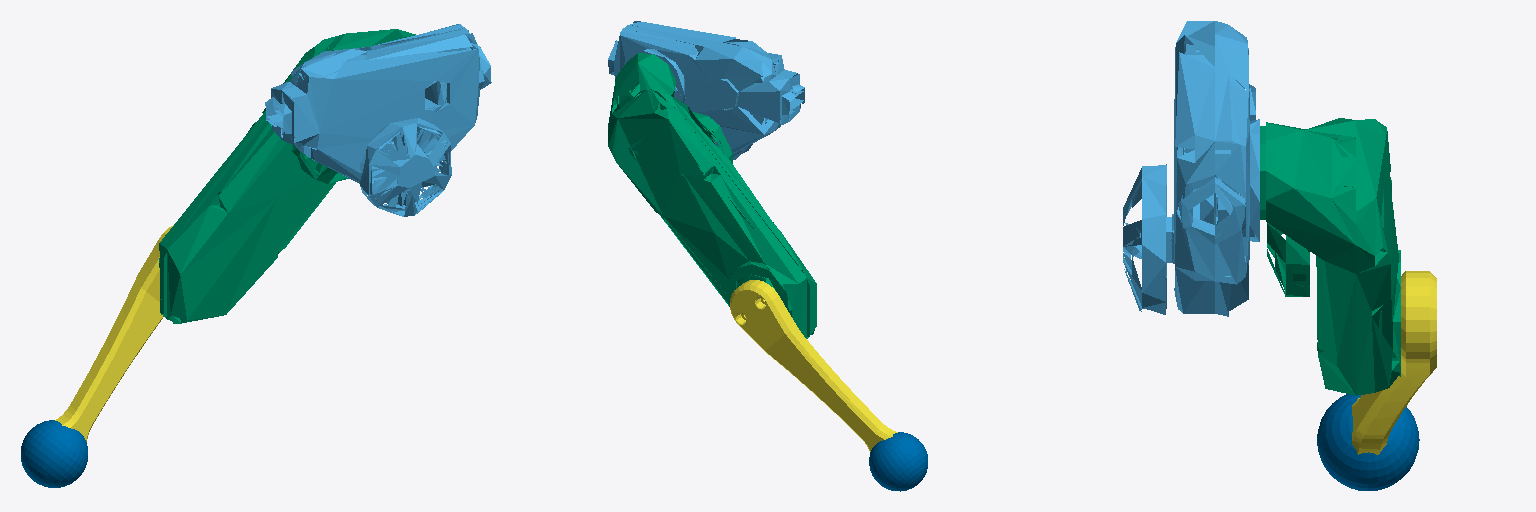
robot.urdf — ester:
<?xml version="1.0" ?>
<!-- =================================================================================== -->
<!-- |    This document was autogenerated by xacro from front_left_leg.urdf.xacro      | -->
<!-- |    EDITING THIS FILE BY HAND IS NOT RECOMMENDED                                 | -->
<!-- =================================================================================== -->
<robot name="ester">
  <!-- Dummy shoulder joint -->
  <link name="front_left_hip_aa_link"/>
  <link name="front_left_hip_fe_link">
    <inertial>
      <mass value="0.139328"/>
      <origin rpy="0 0 3.141592653589793" xyz="0.01808 0.004477 -0.014405"/>
      <inertia ixx="6.080E-05" ixy="-3.521E-06" ixz="2.540E-06" iyy="1.052E-04" iyz="1.247E-05" izz="7.157E-05"/>
    </inertial>
    <visual>
      <origin rpy="0 0 3.141592653589793" xyz="0 0 -0.003"/>
      <geometry>
        <mesh filename="package://ester_description/meshes/leg/front_hip_fe.stl" scale="0.001 0.001 0.001"/>
      </geometry>
    </visual>
    <collision>
      <origin rpy="0 0 3.141592653589793" xyz="0 0 -0.003"/>
      <geometry>
        <mesh filename="package://ester_description/meshes/leg/front_hip_fe.stl" scale="0.001 0.001 0.001"/>
      </geometry>
    </collision>
  </link>
  <joint name="front_left_hip_fe_joint" type="revolute">
    <origin rpy="0 0 0" xyz="0.083972 0.0878 0"/>
    <axis xyz="1 0 0"/>
    <limit effort="2.43" lower="-0.17453292519943295" upper="0.7853981633974483" velocity="83.33333333333333"/>
    <dynamics damping="0.05" friction="0.1"/>
    <parent link="front_left_hip_aa_link"/>
    <child link="front_left_hip_fe_link"/>
  </joint>
  <transmission name="front_left_hip_fe_transmission">
    <type>transmission_interface/SimpleTransmission</type>
    <joint name="front_left_hip_fe_joint">
      <hardwareInterface>hardware_interface/EffortJointInterface</hardwareInterface>
    </joint>
    <actuator name="front_left_hip_fe_motor">
      <hardwareInterface>hardware_interface/EffortJointInterface</hardwareInterface>
      <mechanicalReduction>1</mechanicalReduction>
    </actuator>
  </transmission>
  <link name="front_left_upper_leg_link">
    <inertial>
      <mass value="0.158127"/>
      <origin rpy="0 0 1.5707963267948966" xyz="0.0 0.022563 -0.07012"/>
      <inertia ixx="2.824E-04" ixy="4.259E-09" ixz="-6.584E-08" iyy="2.882E-04" iyz="3.543E-05" izz="3.742E-05"/>
    </inertial>
    <visual>
      <origin rpy="0 0 1.5707963267948966" xyz="0 0 0"/>
      <geometry>
        <mesh filename="package://ester_description/meshes/leg/front_upper_leg.stl" scale="0.001 0.001 0.001"/>
      </geometry>
    </visual>
    <collision>
      <origin rpy="0 0 1.5707963267948966" xyz="0 0 0"/>
      <geometry>
        <mesh filename="package://ester_description/meshes/leg/front_upper_leg.stl" scale="0.001 0.001 0.001"/>
      </geometry>
    </collision>
  </link>
  <joint name="front_left_upper_leg_joint" type="revolute">
    <origin rpy="0 0.7853981633974483 0" xyz="0 0.01415 0"/>
    <axis xyz="0 1 0"/>
    <limit effort="4.32" lower="-2.356194490192345" upper="2.356194490192345" velocity="46.875"/>
    <dynamics damping="0.05" friction="0.1"/>
    <parent link="front_left_hip_fe_link"/>
    <child link="front_left_upper_leg_link"/>
  </joint>
  <transmission name="front_left_upper_leg_transmission">
    <type>transmission_interface/SimpleTransmission</type>
    <joint name="front_left_upper_leg_joint">
      <hardwareInterface>hardware_interface/EffortJointInterface</hardwareInterface>
    </joint>
    <actuator name="front_left_upper_leg_motor">
      <hardwareInterface>hardware_interface/EffortJointInterface</hardwareInterface>
      <mechanicalReduction>1</mechanicalReduction>
    </actuator>
  </transmission>
  <link name="front_left_lower_leg_link">
    <inertial>
      <mass value="0.023961"/>
      <origin xyz="0 0.00816 -0.044589"/>
      <inertia ixx="3.727E-05" ixy="-5.628E-16" ixz="2.285E-15" iyy="3.709E-05" iyz="-5.027E-06" izz="1.815E-06"/>
    </inertial>
    <visual>
      <origin rpy="0 0 0" xyz="0 0 0"/>
      <geometry>
        <mesh filename="package://ester_description/meshes/leg/front_lower_leg.stl" scale="0.001 0.001 0.001"/>
      </geometry>
    </visual>
    <collision>
      <origin rpy="0 0 0" xyz="0 0 0"/>
      <geometry>
        <mesh filename="package://ester_description/meshes/leg/front_lower_leg.stl" scale="0.001 0.001 0.001"/>
      </geometry>
    </collision>
  </link>
  <joint name="front_left_lower_leg_joint" type="revolute">
    <axis xyz="0 1 0"/>
    <limit effort="4.32" lower="-2.5132741228718345" upper="2.5132741228718345" velocity="46.875"/>
    <dynamics damping="0.05" friction="0.1"/>
    <origin rpy="0 0 0" xyz="0 0.0315 -0.1232"/>
    <parent link="front_left_upper_leg_link"/>
    <child link="front_left_lower_leg_link"/>
  </joint>
  <transmission name="front_left_lower_leg_transmission">
    <type>transmission_interface/SimpleTransmission</type>
    <joint name="front_left_lower_leg_joint">
      <hardwareInterface>hardware_interface/EffortJointInterface</hardwareInterface>
    </joint>
    <actuator name="front_left_lower_leg_motor">
      <hardwareInterface>hardware_interface/EffortJointInterface</hardwareInterface>
      <mechanicalReduction>1</mechanicalReduction>
    </actuator>
  </transmission>
  <link name="front_left_foot_contact_link">
    <inertial>
      <mass value="0.01"/>
      <origin xyz="0 0 0"/>
      <inertia ixx="1e-9" ixy="0.0" ixz="0.0" iyy="1e-9" iyz="0.0" izz="1e-9"/>
    </inertial>
    <visual>
      <origin xyz="0 0 0"/>
      <geometry>
        <sphere radius="0.015"/>
      </geometry>
    </visual>
    <collision>
      <origin xyz="0 0 0"/>
      <geometry>
        <sphere radius="0.015"/>
      </geometry>
    </collision>
  </link>
  <joint name="front_left_foot_contact_joint" type="fixed">
    <origin xyz="0 0 -0.105"/>
    <parent link="front_left_lower_leg_link"/>
    <child link="front_left_foot_contact_link"/>
  </joint>
</robot>

--- Facts derived from the render (not from the file) ---
3 views of the same robot in one strip: view 1: azimuth 30°, elevation 25°; view 2: azimuth 150°, elevation 25°; view 3: azimuth 270°, elevation 25° (orthographic).
Robot: ester — 5 links, 4 joints (3 revolute, 1 fixed); root link front_left_hip_aa_link; default pose: all joints at 0.
Visible links, largest first — view 1: front_left_hip_fe_link, front_left_upper_leg_link, front_left_lower_leg_link, front_left_foot_contact_link; view 2: front_left_upper_leg_link, front_left_hip_fe_link, front_left_lower_leg_link, front_left_foot_contact_link; view 3: front_left_upper_leg_link, front_left_hip_fe_link, front_left_lower_leg_link, front_left_foot_contact_link.
Link boxes in pixels (x1,y1,x2,y2): front_left_hip_fe_link: [265, 24, 491, 216]; front_left_upper_leg_link: [159, 29, 415, 323]; front_left_lower_leg_link: [55, 225, 173, 441]; front_left_foot_contact_link: [21, 420, 87, 487]; front_left_upper_leg_link: [608, 53, 816, 338]; front_left_hip_fe_link: [608, 21, 804, 159]; front_left_lower_leg_link: [730, 280, 897, 451]; front_left_foot_contact_link: [869, 432, 927, 491]; front_left_upper_leg_link: [1260, 118, 1400, 395]; front_left_hip_fe_link: [1123, 21, 1259, 316]; front_left_lower_leg_link: [1352, 271, 1436, 454]; front_left_foot_contact_link: [1317, 394, 1419, 490].
Bounding box of the posed robot: 0.2051 × 0.0915 × 0.2004 m (x, y, z).
Meshes: 3 distinct files referenced, 3 mesh visuals loaded (3 binary STL).
